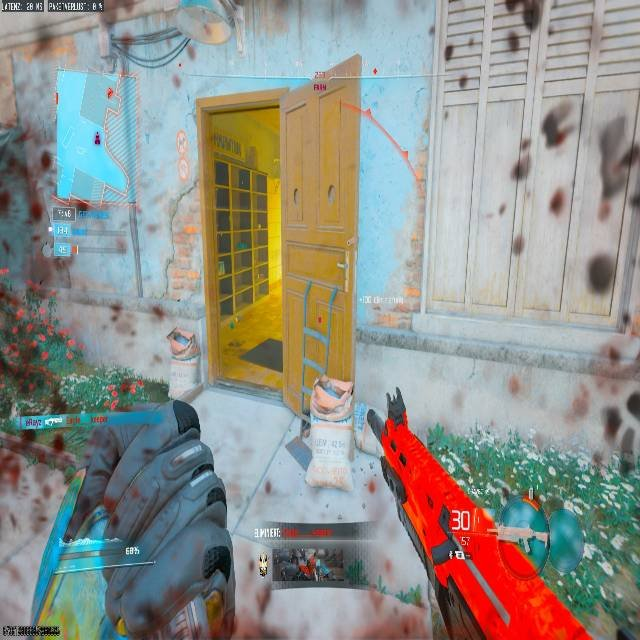head: (540, 98, 577, 148)
